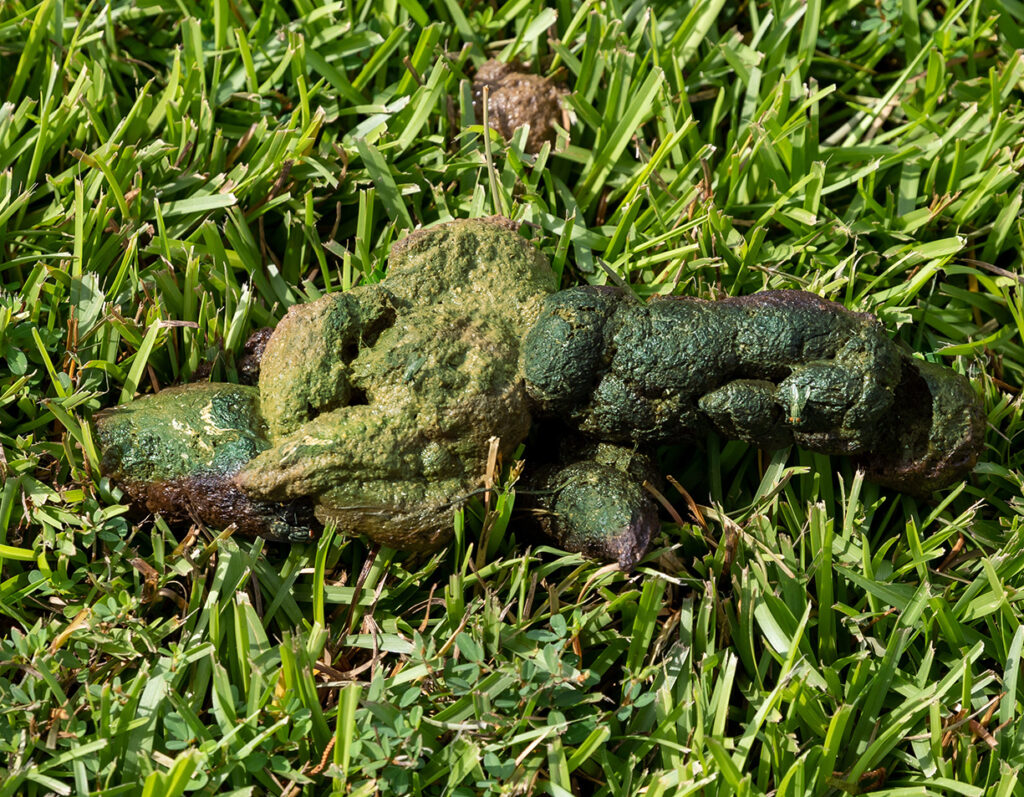Dog: (86, 225, 977, 562)
